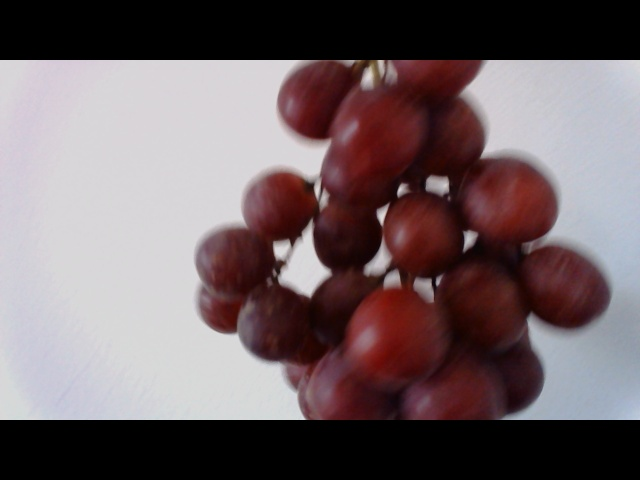grape: (181, 78, 599, 412)
